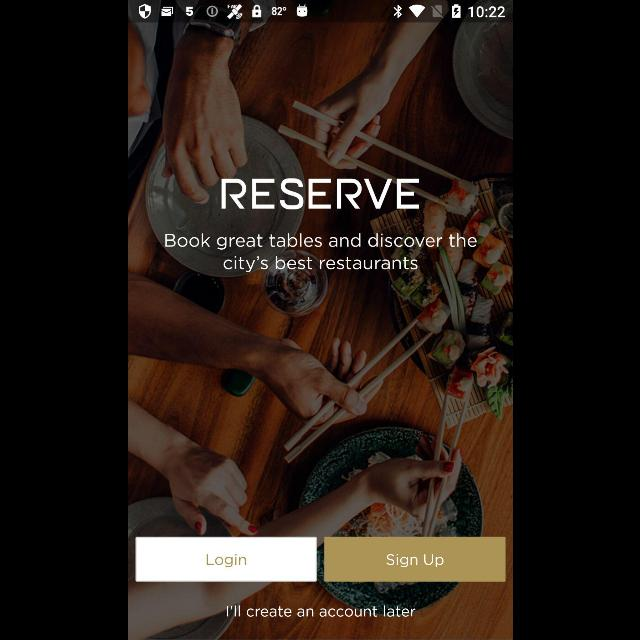backgroundimage: (128, 22, 512, 640)
image: (221, 178, 419, 210)
text: (164, 234, 476, 272), (226, 605, 414, 617)
textbutton: (323, 536, 504, 582), (136, 536, 316, 582)
uppertaskbar: (128, 1, 512, 23)
